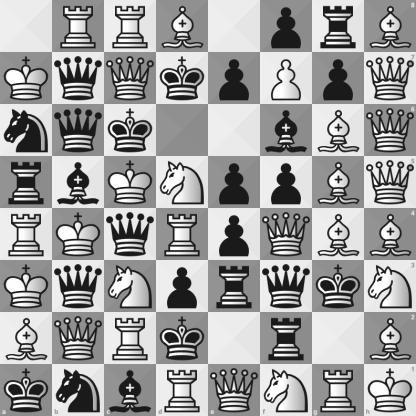B: (364, 0, 416, 52), (364, 312, 416, 364), (364, 209, 416, 260), (1, 313, 52, 364), (157, 1, 208, 52), (313, 105, 364, 156), (313, 157, 364, 208), (313, 209, 364, 260)
K: (364, 364, 416, 416), (1, 53, 52, 104), (1, 261, 52, 312), (53, 209, 104, 260), (105, 157, 156, 208)
N: (260, 364, 312, 416), (364, 260, 416, 312), (105, 261, 156, 312), (157, 157, 208, 208)
P: (261, 53, 312, 104)
Q: (364, 156, 416, 209), (364, 52, 416, 104), (364, 104, 416, 156), (209, 364, 260, 416), (53, 313, 104, 364), (105, 53, 156, 104), (261, 209, 312, 260)
R: (156, 364, 209, 416), (312, 364, 364, 416), (1, 209, 52, 260), (53, 1, 104, 52), (105, 1, 156, 52), (105, 313, 156, 364), (157, 209, 208, 260)
b: (104, 364, 156, 416), (53, 157, 104, 208), (261, 105, 312, 156)
board: (0, 0, 415, 415)
k: (0, 364, 52, 416), (105, 105, 156, 156), (157, 53, 208, 104), (157, 313, 208, 364), (313, 261, 364, 312)
n: (52, 364, 104, 416), (1, 105, 52, 156)
p: (157, 261, 208, 312), (209, 53, 260, 104), (209, 157, 260, 208), (209, 209, 260, 260), (261, 1, 312, 52), (261, 157, 312, 208), (313, 53, 364, 104)
q: (53, 53, 104, 104), (53, 105, 104, 156), (53, 261, 104, 312), (105, 209, 156, 260), (261, 261, 312, 312)
r: (1, 157, 52, 208), (209, 261, 260, 312), (261, 313, 312, 364), (313, 1, 364, 52)
